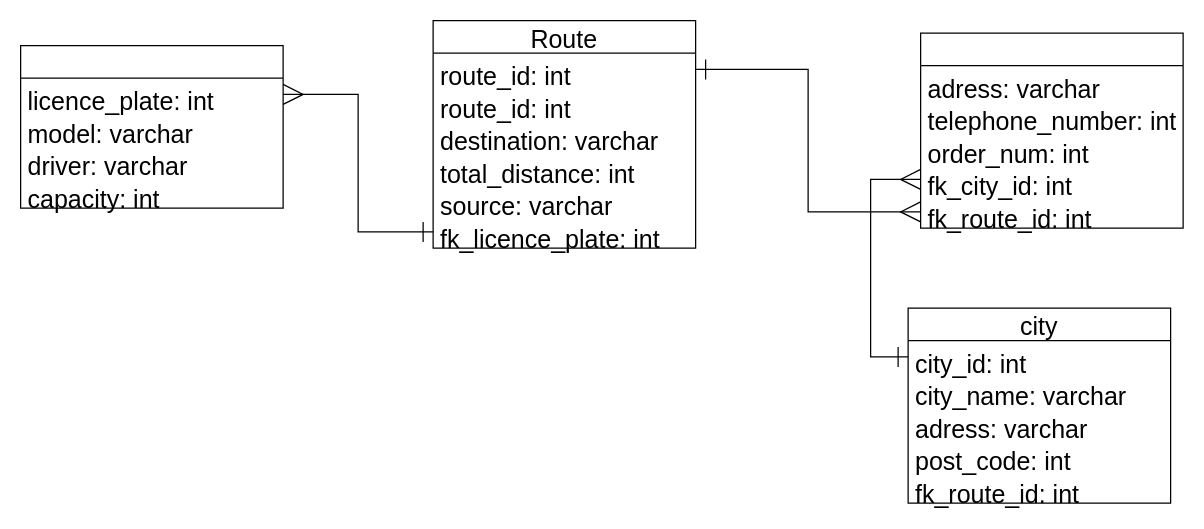
The diagram is 1204 pixels wide and 529 high, and some of its shapes have lost their labels. Each missing label, with the box of its shape:
bus: (19, 44, 283, 208)
bus station: (919, 32, 1183, 228)
